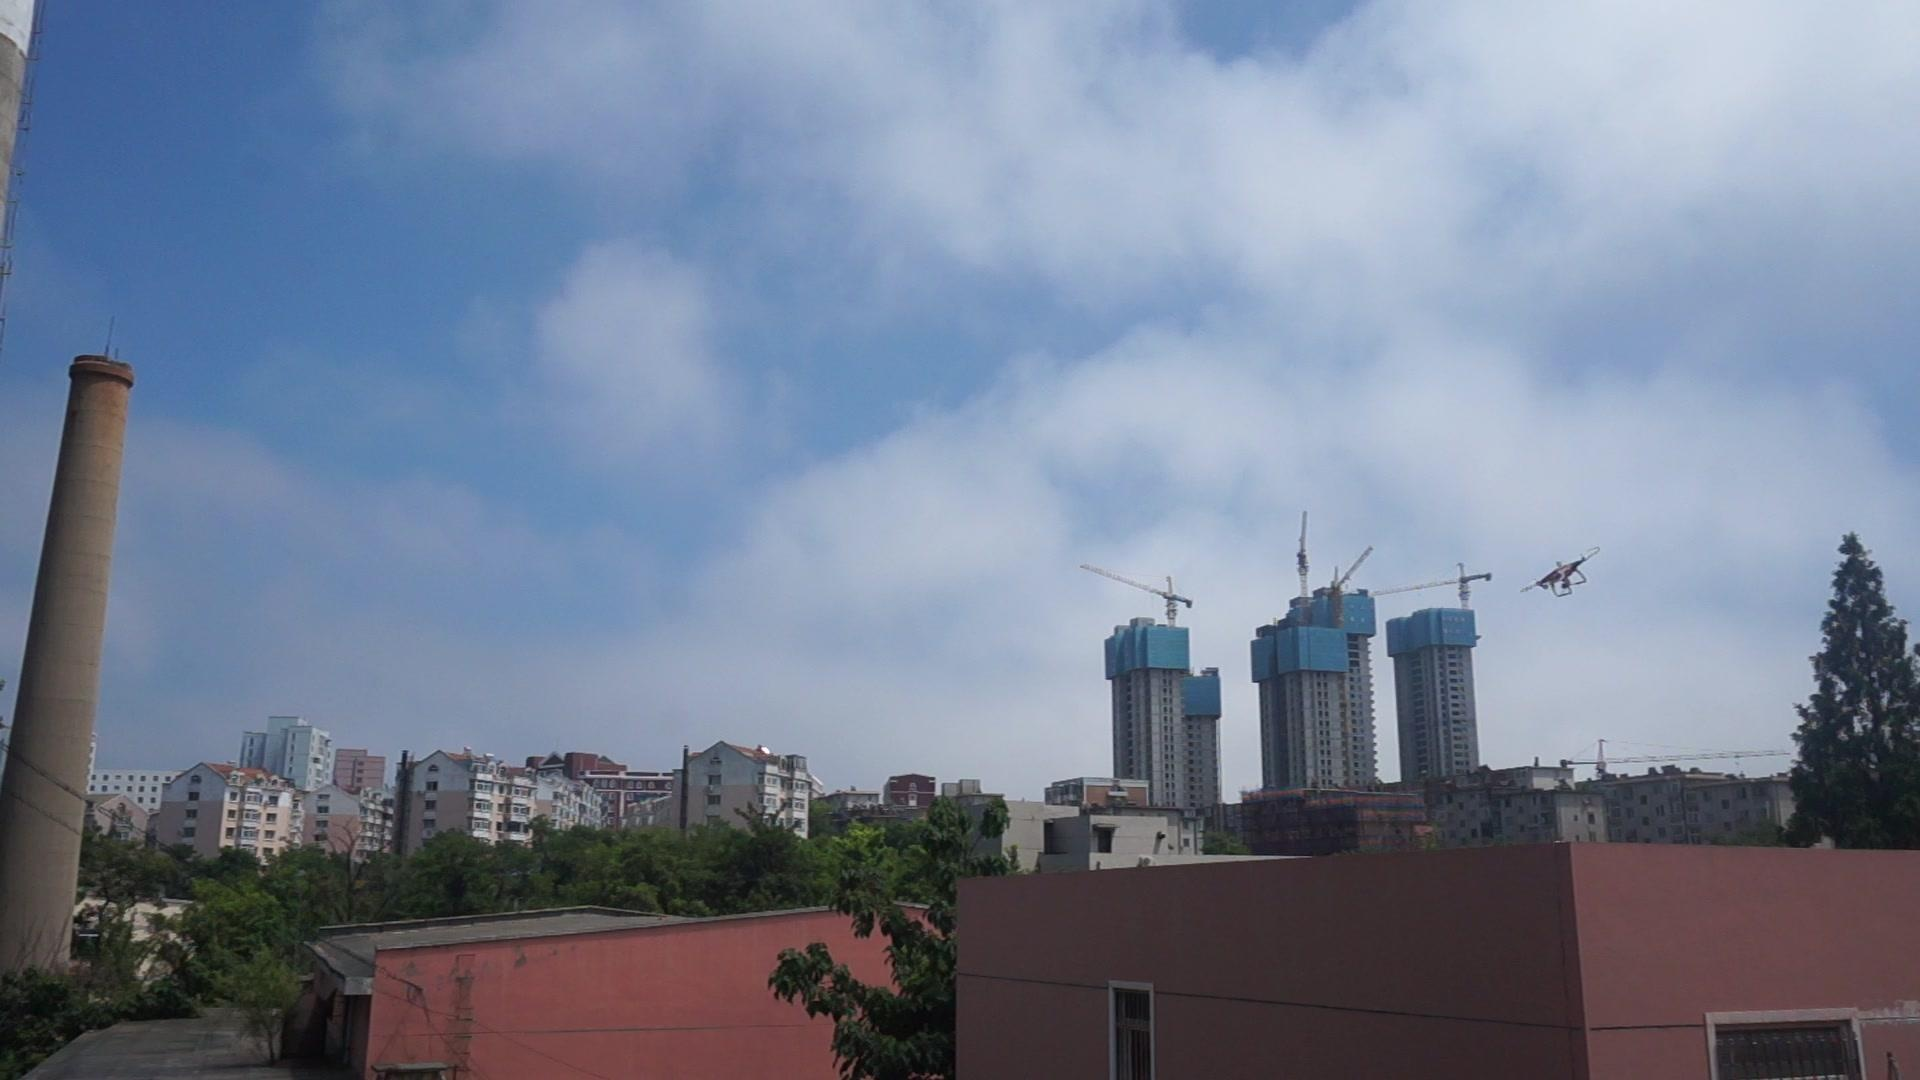UAV: (1520, 547, 1601, 597)
